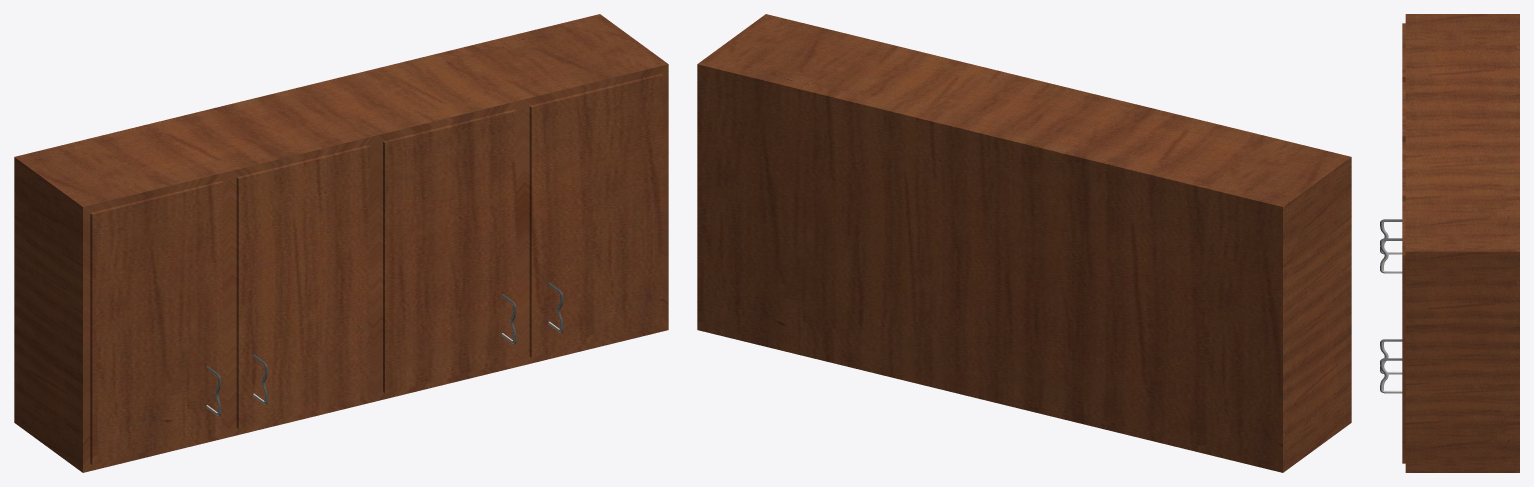
File: DuoDrawer.fbx
3 renders of one model, left to right at view 1: azimuth 30°, elevation 25°; view 2: azimuth 150°, elevation 25°; view 3: azimuth 270°, elevation 25°, orthographic. The views are drawn at different scales.
Visible parts, largest first — view 1: Drawer3; view 2: Drawer3; view 3: Drawer3, Handle20, Handle18, Handle19, Handle17.
Boxes of the visible parts, bbox=[...] form: Drawer3: bbox=[14, 14, 668, 472]; Drawer3: bbox=[697, 14, 1351, 472]; Drawer3: bbox=[1402, 14, 1519, 472]; Handle20: bbox=[1380, 358, 1402, 393]; Handle18: bbox=[1380, 238, 1402, 273]; Handle19: bbox=[1380, 339, 1402, 374]; Handle17: bbox=[1380, 219, 1402, 254].
Size of the model in its own units: 59.94 by 25.99 by 14.89.
2 materials, 2 textured.
